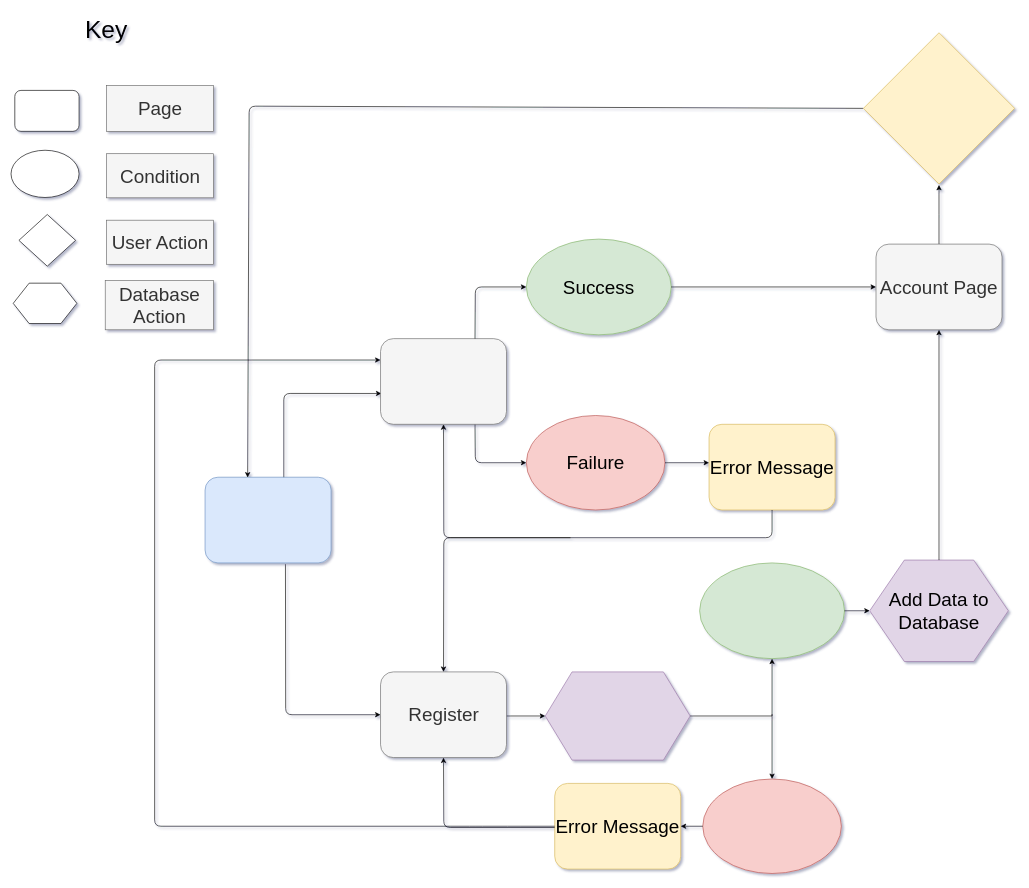
The diagram is 1029 pixels wide and 888 high, and some of its shapes have lost their labels. The centre of each missing label's shape, as x and y in pixels:
"Check DB to See if User Already Exists" belongs at (617,715).
"Home Page" belongs at (267,520).
"Login" belongs at (443,381).
"Logout/ Delete Account" belongs at (939,108).
"New User" belongs at (772,610).
"User Already Exists" belongs at (771,825).
